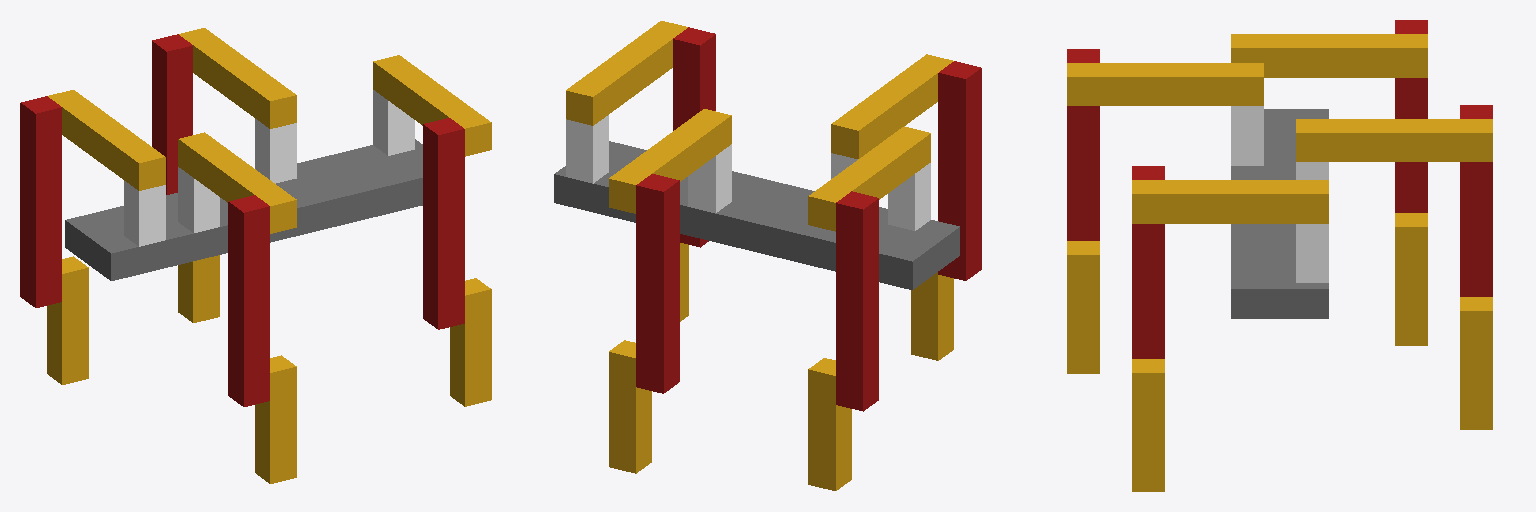
robot.urdf — v0:
<?xml version="1.0" encoding="utf-8"?>
<!-- =================================================================================== -->
<!-- |    This document was autogenerated by xacro from ../robots/v0variants/xacros/v0_4l_21.xacro | -->
<!-- |    EDITING THIS FILE BY HAND IS NOT RECOMMENDED                                 | -->
<!-- =================================================================================== -->
<robot name="v0">
  <material name="grey">
    <color rgba="0.5 0.5 0.5 1"/>
  </material>
  <material name="white">
    <color rgba="1 1 1 1"/>
  </material>
  <material name="yellow">
    <color rgba="0.91 0.7 0.14 1"/>
  </material>
  <material name="red">
    <color rgba="0.71 0.14 0.14 1"/>
  </material>
  <link name="body">
    <visual>
      <geometry>
        <box size="1.3 0.3 0.1"/>
      </geometry>
      <material name="grey"/>
      <origin rpy="0 0 0" xyz="0 0 0.7"/>
    </visual>
    <collision>
      <geometry>
        <box size="1.3 0.3 0.1"/>
      </geometry>
      <origin rpy="0 0 0" xyz="0 0 0.7"/>
    </collision>
    <inertial>
      <mass value="99.84"/>
      <inertia ixx="0.832" ixy="0.0" ixz="0.0" iyy="14.144" iyz="0.0" izz="14.8096"/>
    </inertial>
  </link>
  <link name="l1_segment_1">
    <visual>
      <geometry>
        <box size="0.1 0.1 0.2"/>
      </geometry>
      <material name="white"/>
      <origin rpy="0 0 0" xyz="0 0 0.1"/>
    </visual>
    <collision>
      <geometry>
        <box size="0.1 0.1 0.2"/>
      </geometry>
      <origin rpy="0 0 0" xyz="0 0 0.1"/>
    </collision>
    <inertial>
      <mass value="5.12"/>
      <inertia ixx="0.0213333333333" ixy="0.0" ixz="0.0" iyy="0.0213333333333" iyz="0.0" izz="0.00853333333333"/>
    </inertial>
  </link>
  <joint name="l1_base_to_joint_1" type="fixed">
    <parent link="body"/>
    <child link="l1_segment_1"/>
    <origin rpy="0 0 0" xyz="-0.4950341506257495 -0.1 0.75"/>
  </joint>
  <link name="l1_segment_2_HIP">
    <visual>
      <geometry>
        <box size="0.1 0.6 0.1"/>
      </geometry>
      <material name="yellow"/>
      <origin rpy="0 0 0" xyz="0 0.25 0"/>
    </visual>
    <collision>
      <geometry>
        <box size="0.1 0.6 0.1"/>
      </geometry>
      <origin rpy="0 0 0" xyz="0 0.25 0"/>
    </collision>
    <inertial>
      <mass value="15.36"/>
      <inertia ixx="0.4736" ixy="0.0" ixz="0.0" iyy="0.0256" iyz="0.0" izz="0.4736"/>
    </inertial>
  </link>
  <joint name="l1_joint_1_to_2" type="revolute">
    <parent link="l1_segment_1"/>
    <child link="l1_segment_2_HIP"/>
    <origin rpy="0 0 0" xyz="0 0 0.25"/>
    <axis xyz="0.0 0.0 1.0"/>
    <limit effort="2048" lower="-1.2" upper="1.2" velocity="20"/>
  </joint>
  <link name="l1_segment_3_THIGH">
    <visual>
      <geometry>
        <box size="0.1 0.1 0.7"/>
      </geometry>
      <material name="red"/>
      <origin rpy="0 0 0" xyz="0 0 -0.3"/>
    </visual>
    <collision>
      <geometry>
        <box size="0.1 0.1 0.7"/>
      </geometry>
      <origin rpy="0 0 0" xyz="0 0 -0.3"/>
    </collision>
    <inertial>
      <mass value="17.92"/>
      <inertia ixx="0.746666666667" ixy="0.0" ixz="0.0" iyy="0.746666666667" iyz="0.0" izz="0.0298666666667"/>
    </inertial>
  </link>
  <joint name="l1_joint_2_to_3" type="revolute">
    <parent link="l1_segment_2_HIP"/>
    <child link="l1_segment_3_THIGH"/>
    <origin rpy="0 0 0" xyz="-0.1 0.5 0"/>
    <axis xyz="1.0 0.0 0.0"/>
    <limit effort="2048" lower="-0.2" upper="0.75" velocity="20"/>
  </joint>
  <link name="l1_segment_4_FOOT">
    <visual>
      <geometry>
        <box size="0.1 0.1 0.4"/>
      </geometry>
      <material name="yellow"/>
      <origin rpy="0 0 0" xyz="0 0 -0.2"/>
    </visual>
    <collision>
      <geometry>
        <box size="0.1 0.1 0.4"/>
      </geometry>
      <origin rpy="0 0 0" xyz="0 0 -0.2"/>
    </collision>
    <inertial>
      <mass value="10.24"/>
      <inertia ixx="0.145066666667" ixy="0.0" ixz="0.0" iyy="0.145066666667" iyz="0.0" izz="0.0170666666667"/>
    </inertial>
  </link>
  <joint name="l1_joint_3_to_4_FOOT" type="revolute">
    <parent link="l1_segment_3_THIGH"/>
    <child link="l1_segment_4_FOOT"/>
    <origin rpy="0 0 0" xyz="0.1 0 -0.55"/>
    <axis xyz="1.0 0.0 0.0"/>
    <limit effort="2048" lower="-0.2" upper="0.5" velocity="20"/>
  </joint>
  <link name="r2_segment_1">
    <visual>
      <geometry>
        <box size="0.1 0.1 0.2"/>
      </geometry>
      <material name="white"/>
      <origin rpy="0 0 0" xyz="0 0 0.1"/>
    </visual>
    <collision>
      <geometry>
        <box size="0.1 0.1 0.2"/>
      </geometry>
      <origin rpy="0 0 0" xyz="0 0 0.1"/>
    </collision>
    <inertial>
      <mass value="5.12"/>
      <inertia ixx="0.0213333333333" ixy="0.0" ixz="0.0" iyy="0.0213333333333" iyz="0.0" izz="0.00853333333333"/>
    </inertial>
  </link>
  <joint name="r2_base_to_joint_1" type="fixed">
    <parent link="body"/>
    <child link="r2_segment_1"/>
    <origin rpy="0 0 0" xyz="-0.2896716874606876 -0.1 0.75"/>
  </joint>
  <link name="r2_segment_2_HIP">
    <visual>
      <geometry>
        <box size="0.1 0.6 0.1"/>
      </geometry>
      <material name="yellow"/>
      <origin rpy="0 0 0" xyz="0 -0.25 0"/>
    </visual>
    <collision>
      <geometry>
        <box size="0.1 0.6 0.1"/>
      </geometry>
      <origin rpy="0 0 0" xyz="0 -0.25 0"/>
    </collision>
    <inertial>
      <mass value="15.36"/>
      <inertia ixx="0.4736" ixy="0.0" ixz="0.0" iyy="0.0256" iyz="0.0" izz="0.4736"/>
    </inertial>
  </link>
  <joint name="r2_joint_1_to_2" type="revolute">
    <parent link="r2_segment_1"/>
    <child link="r2_segment_2_HIP"/>
    <origin rpy="0 0 0" xyz="0 0 0.25"/>
    <axis xyz="0.0 0.0 1.0"/>
    <limit effort="2048" lower="-1.2" upper="1.2" velocity="20"/>
  </joint>
  <link name="r2_segment_3_THIGH">
    <visual>
      <geometry>
        <box size="0.1 0.1 0.7"/>
      </geometry>
      <material name="red"/>
      <origin rpy="0 0 0" xyz="0 0 -0.3"/>
    </visual>
    <collision>
      <geometry>
        <box size="0.1 0.1 0.7"/>
      </geometry>
      <origin rpy="0 0 0" xyz="0 0 -0.3"/>
    </collision>
    <inertial>
      <mass value="17.92"/>
      <inertia ixx="0.746666666667" ixy="0.0" ixz="0.0" iyy="0.746666666667" iyz="0.0" izz="0.0298666666667"/>
    </inertial>
  </link>
  <joint name="r2_joint_2_to_3" type="revolute">
    <parent link="r2_segment_2_HIP"/>
    <child link="r2_segment_3_THIGH"/>
    <origin rpy="0 0 0" xyz="-0.1 -0.5 0"/>
    <axis xyz="1.0 0.0 0.0"/>
    <limit effort="2048" lower="-0.75" upper="0.2" velocity="20"/>
  </joint>
  <link name="r2_segment_4_FOOT">
    <visual>
      <geometry>
        <box size="0.1 0.1 0.4"/>
      </geometry>
      <material name="yellow"/>
      <origin rpy="0 0 0" xyz="0 0 -0.2"/>
    </visual>
    <collision>
      <geometry>
        <box size="0.1 0.1 0.4"/>
      </geometry>
      <origin rpy="0 0 0" xyz="0 0 -0.2"/>
    </collision>
    <inertial>
      <mass value="10.24"/>
      <inertia ixx="0.145066666667" ixy="0.0" ixz="0.0" iyy="0.145066666667" iyz="0.0" izz="0.0170666666667"/>
    </inertial>
  </link>
  <joint name="r2_joint_3_to_4_FOOT" type="revolute">
    <parent link="r2_segment_3_THIGH"/>
    <child link="r2_segment_4_FOOT"/>
    <origin rpy="0 0 0" xyz="0.1 0 -0.55"/>
    <axis xyz="1.0 0.0 0.0"/>
    <limit effort="2048" lower="-0.5" upper="0.2" velocity="20"/>
  </joint>
  <link name="l3_segment_1">
    <visual>
      <geometry>
        <box size="0.1 0.1 0.2"/>
      </geometry>
      <material name="white"/>
      <origin rpy="0 0 0" xyz="0 0 0.1"/>
    </visual>
    <collision>
      <geometry>
        <box size="0.1 0.1 0.2"/>
      </geometry>
      <origin rpy="0 0 0" xyz="0 0 0.1"/>
    </collision>
    <inertial>
      <mass value="5.12"/>
      <inertia ixx="0.0213333333333" ixy="0.0" ixz="0.0" iyy="0.0213333333333" iyz="0.0" izz="0.00853333333333"/>
    </inertial>
  </link>
  <joint name="l3_base_to_joint_1" type="fixed">
    <parent link="body"/>
    <child link="l3_segment_1"/>
    <origin rpy="0 0 0" xyz="0.11360784566699378 0.1 0.75"/>
  </joint>
  <link name="l3_segment_2_HIP">
    <visual>
      <geometry>
        <box size="0.1 0.6 0.1"/>
      </geometry>
      <material name="yellow"/>
      <origin rpy="0 0 0" xyz="0 0.25 0"/>
    </visual>
    <collision>
      <geometry>
        <box size="0.1 0.6 0.1"/>
      </geometry>
      <origin rpy="0 0 0" xyz="0 0.25 0"/>
    </collision>
    <inertial>
      <mass value="15.36"/>
      <inertia ixx="0.4736" ixy="0.0" ixz="0.0" iyy="0.0256" iyz="0.0" izz="0.4736"/>
    </inertial>
  </link>
  <joint name="l3_joint_1_to_2" type="revolute">
    <parent link="l3_segment_1"/>
    <child link="l3_segment_2_HIP"/>
    <origin rpy="0 0 0" xyz="0 0 0.25"/>
    <axis xyz="0.0 0.0 1.0"/>
    <limit effort="2048" lower="-1.2" upper="1.2" velocity="20"/>
  </joint>
  <link name="l3_segment_3_THIGH">
    <visual>
      <geometry>
        <box size="0.1 0.1 0.7"/>
      </geometry>
      <material name="red"/>
      <origin rpy="0 0 0" xyz="0 0 -0.3"/>
    </visual>
    <collision>
      <geometry>
        <box size="0.1 0.1 0.7"/>
      </geometry>
      <origin rpy="0 0 0" xyz="0 0 -0.3"/>
    </collision>
    <inertial>
      <mass value="17.92"/>
      <inertia ixx="0.746666666667" ixy="0.0" ixz="0.0" iyy="0.746666666667" iyz="0.0" izz="0.0298666666667"/>
    </inertial>
  </link>
  <joint name="l3_joint_2_to_3" type="revolute">
    <parent link="l3_segment_2_HIP"/>
    <child link="l3_segment_3_THIGH"/>
    <origin rpy="0 0 0" xyz="-0.1 0.5 0"/>
    <axis xyz="1.0 0.0 0.0"/>
    <limit effort="2048" lower="-0.2" upper="0.75" velocity="20"/>
  </joint>
  <link name="l3_segment_4_FOOT">
    <visual>
      <geometry>
        <box size="0.1 0.1 0.4"/>
      </geometry>
      <material name="yellow"/>
      <origin rpy="0 0 0" xyz="0 0 -0.2"/>
    </visual>
    <collision>
      <geometry>
        <box size="0.1 0.1 0.4"/>
      </geometry>
      <origin rpy="0 0 0" xyz="0 0 -0.2"/>
    </collision>
    <inertial>
      <mass value="10.24"/>
      <inertia ixx="0.145066666667" ixy="0.0" ixz="0.0" iyy="0.145066666667" iyz="0.0" izz="0.0170666666667"/>
    </inertial>
  </link>
  <joint name="l3_joint_3_to_4_FOOT" type="revolute">
    <parent link="l3_segment_3_THIGH"/>
    <child link="l3_segment_4_FOOT"/>
    <origin rpy="0 0 0" xyz="0.1 0 -0.55"/>
    <axis xyz="1.0 0.0 0.0"/>
    <limit effort="2048" lower="-0.2" upper="0.5" velocity="20"/>
  </joint>
  <link name="r4_segment_1">
    <visual>
      <geometry>
        <box size="0.1 0.1 0.2"/>
      </geometry>
      <material name="white"/>
      <origin rpy="0 0 0" xyz="0 0 0.1"/>
    </visual>
    <collision>
      <geometry>
        <box size="0.1 0.1 0.2"/>
      </geometry>
      <origin rpy="0 0 0" xyz="0 0 0.1"/>
    </collision>
    <inertial>
      <mass value="5.12"/>
      <inertia ixx="0.0213333333333" ixy="0.0" ixz="0.0" iyy="0.0213333333333" iyz="0.0" izz="0.00853333333333"/>
    </inertial>
  </link>
  <joint name="r4_base_to_joint_1" type="fixed">
    <parent link="body"/>
    <child link="r4_segment_1"/>
    <origin rpy="0 0 0" xyz="0.5578690259665607 0.1 0.75"/>
  </joint>
  <link name="r4_segment_2_HIP">
    <visual>
      <geometry>
        <box size="0.1 0.6 0.1"/>
      </geometry>
      <material name="yellow"/>
      <origin rpy="0 0 0" xyz="0 -0.25 0"/>
    </visual>
    <collision>
      <geometry>
        <box size="0.1 0.6 0.1"/>
      </geometry>
      <origin rpy="0 0 0" xyz="0 -0.25 0"/>
    </collision>
    <inertial>
      <mass value="15.36"/>
      <inertia ixx="0.4736" ixy="0.0" ixz="0.0" iyy="0.0256" iyz="0.0" izz="0.4736"/>
    </inertial>
  </link>
  <joint name="r4_joint_1_to_2" type="revolute">
    <parent link="r4_segment_1"/>
    <child link="r4_segment_2_HIP"/>
    <origin rpy="0 0 0" xyz="0 0 0.25"/>
    <axis xyz="0.0 0.0 1.0"/>
    <limit effort="2048" lower="-1.2" upper="1.2" velocity="20"/>
  </joint>
  <link name="r4_segment_3_THIGH">
    <visual>
      <geometry>
        <box size="0.1 0.1 0.7"/>
      </geometry>
      <material name="red"/>
      <origin rpy="0 0 0" xyz="0 0 -0.3"/>
    </visual>
    <collision>
      <geometry>
        <box size="0.1 0.1 0.7"/>
      </geometry>
      <origin rpy="0 0 0" xyz="0 0 -0.3"/>
    </collision>
    <inertial>
      <mass value="17.92"/>
      <inertia ixx="0.746666666667" ixy="0.0" ixz="0.0" iyy="0.746666666667" iyz="0.0" izz="0.0298666666667"/>
    </inertial>
  </link>
  <joint name="r4_joint_2_to_3" type="revolute">
    <parent link="r4_segment_2_HIP"/>
    <child link="r4_segment_3_THIGH"/>
    <origin rpy="0 0 0" xyz="-0.1 -0.5 0"/>
    <axis xyz="1.0 0.0 0.0"/>
    <limit effort="2048" lower="-0.75" upper="0.2" velocity="20"/>
  </joint>
  <link name="r4_segment_4_FOOT">
    <visual>
      <geometry>
        <box size="0.1 0.1 0.4"/>
      </geometry>
      <material name="yellow"/>
      <origin rpy="0 0 0" xyz="0 0 -0.2"/>
    </visual>
    <collision>
      <geometry>
        <box size="0.1 0.1 0.4"/>
      </geometry>
      <origin rpy="0 0 0" xyz="0 0 -0.2"/>
    </collision>
    <inertial>
      <mass value="10.24"/>
      <inertia ixx="0.145066666667" ixy="0.0" ixz="0.0" iyy="0.145066666667" iyz="0.0" izz="0.0170666666667"/>
    </inertial>
  </link>
  <joint name="r4_joint_3_to_4_FOOT" type="revolute">
    <parent link="r4_segment_3_THIGH"/>
    <child link="r4_segment_4_FOOT"/>
    <origin rpy="0 0 0" xyz="0.1 0 -0.55"/>
    <axis xyz="1.0 0.0 0.0"/>
    <limit effort="2048" lower="-0.5" upper="0.2" velocity="20"/>
  </joint>
</robot>

--- What the picture shows (computed from the rendered views, not written in the file) ---
The picture shows the robot from 3 angles, left to right: view 1: azimuth 30°, elevation 25°; view 2: azimuth 150°, elevation 25°; view 3: azimuth 270°, elevation 25°; orthographic projection.
Robot: v0 — 17 links, 16 joints (12 revolute, 4 fixed); root link body; default pose: all joints at 0.
Visible links, largest first — view 1: body, r4_segment_3_THIGH, l1_segment_3_THIGH, r2_segment_3_THIGH, l1_segment_2_HIP, l3_segment_2_HIP, l3_segment_3_THIGH, r2_segment_2_HIP, r4_segment_2_HIP, r4_segment_4_FOOT, l1_segment_4_FOOT, r2_segment_4_FOOT (+5 smaller); view 2: body, l3_segment_3_THIGH, l1_segment_3_THIGH, r2_segment_3_THIGH, r4_segment_2_HIP, r2_segment_2_HIP, l1_segment_2_HIP, l3_segment_2_HIP, l1_segment_4_FOOT, l3_segment_4_FOOT, r4_segment_3_THIGH, r2_segment_4_FOOT (+4 smaller); view 3: body, r4_segment_2_HIP, r2_segment_2_HIP, l3_segment_2_HIP, l1_segment_2_HIP, r2_segment_3_THIGH, l3_segment_3_THIGH, r4_segment_3_THIGH, l1_segment_4_FOOT, r2_segment_4_FOOT, l3_segment_4_FOOT, r4_segment_4_FOOT (+4 smaller).
Boxes of the visible links, x1=… form: body: x1=65, y1=139, x2=422, y2=280; r4_segment_3_THIGH: x1=423, y1=118, x2=464, y2=329; l1_segment_3_THIGH: x1=20, y1=96, x2=61, y2=307; r2_segment_3_THIGH: x1=228, y1=195, x2=269, y2=406; l1_segment_2_HIP: x1=48, y1=90, x2=165, y2=190; l3_segment_2_HIP: x1=179, y1=28, x2=296, y2=128; l3_segment_3_THIGH: x1=152, y1=34, x2=192, y2=194; r2_segment_2_HIP: x1=178, y1=132, x2=296, y2=233; r4_segment_2_HIP: x1=373, y1=55, x2=491, y2=156; r4_segment_4_FOOT: x1=450, y1=278, x2=491, y2=406; l1_segment_4_FOOT: x1=47, y1=256, x2=88, y2=384; r2_segment_4_FOOT: x1=255, y1=355, x2=296, y2=483; body: x1=554, y1=141, x2=959, y2=289; l3_segment_3_THIGH: x1=636, y1=174, x2=679, y2=393; l1_segment_3_THIGH: x1=836, y1=191, x2=878, y2=411; r2_segment_3_THIGH: x1=938, y1=61, x2=981, y2=280; r4_segment_2_HIP: x1=566, y1=21, x2=687, y2=125; r2_segment_2_HIP: x1=831, y1=54, x2=953, y2=158; l1_segment_2_HIP: x1=808, y1=126, x2=930, y2=231; l3_segment_2_HIP: x1=609, y1=109, x2=731, y2=213; l1_segment_4_FOOT: x1=808, y1=358, x2=851, y2=490; l3_segment_4_FOOT: x1=609, y1=340, x2=651, y2=473; r4_segment_3_THIGH: x1=673, y1=27, x2=715, y2=247; r2_segment_4_FOOT: x1=911, y1=272, x2=953, y2=360; body: x1=1231, y1=109, x2=1328, y2=318; r4_segment_2_HIP: x1=1132, y1=180, x2=1328, y2=223; r2_segment_2_HIP: x1=1067, y1=63, x2=1263, y2=105; l3_segment_2_HIP: x1=1296, y1=119, x2=1492, y2=161; l1_segment_2_HIP: x1=1231, y1=34, x2=1427, y2=77; r2_segment_3_THIGH: x1=1067, y1=49, x2=1099, y2=240; l3_segment_3_THIGH: x1=1460, y1=105, x2=1492, y2=296; r4_segment_3_THIGH: x1=1132, y1=166, x2=1164, y2=358; l1_segment_4_FOOT: x1=1395, y1=213, x2=1427, y2=345; r2_segment_4_FOOT: x1=1067, y1=241, x2=1099, y2=373; l3_segment_4_FOOT: x1=1460, y1=297, x2=1492, y2=429; r4_segment_4_FOOT: x1=1132, y1=359, x2=1164, y2=491.
Bounding box of the posed robot: 1.3 × 1.3 × 1 m (x, y, z).
Geometry: primitives only (box / cylinder / sphere), no mesh files.